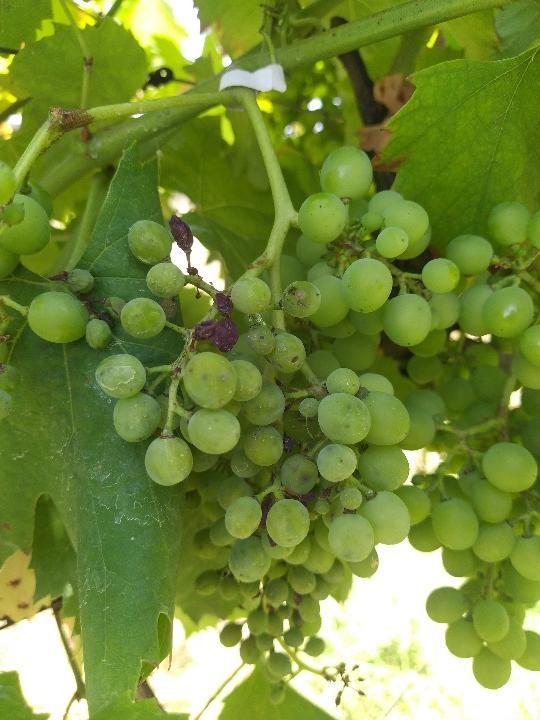grape: (92, 146, 464, 587)
